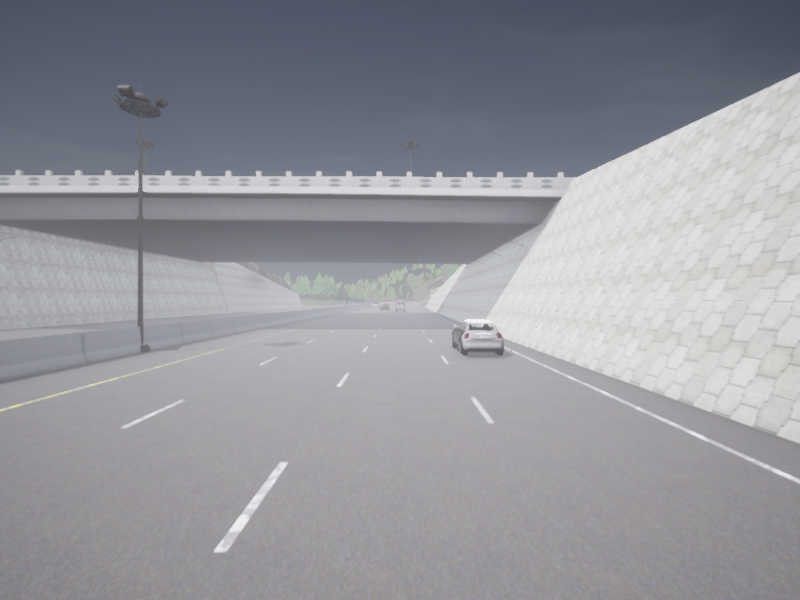vehicle: (452, 320, 503, 354), (395, 300, 405, 310), (373, 301, 380, 307), (381, 304, 389, 309), (380, 301, 385, 304)
